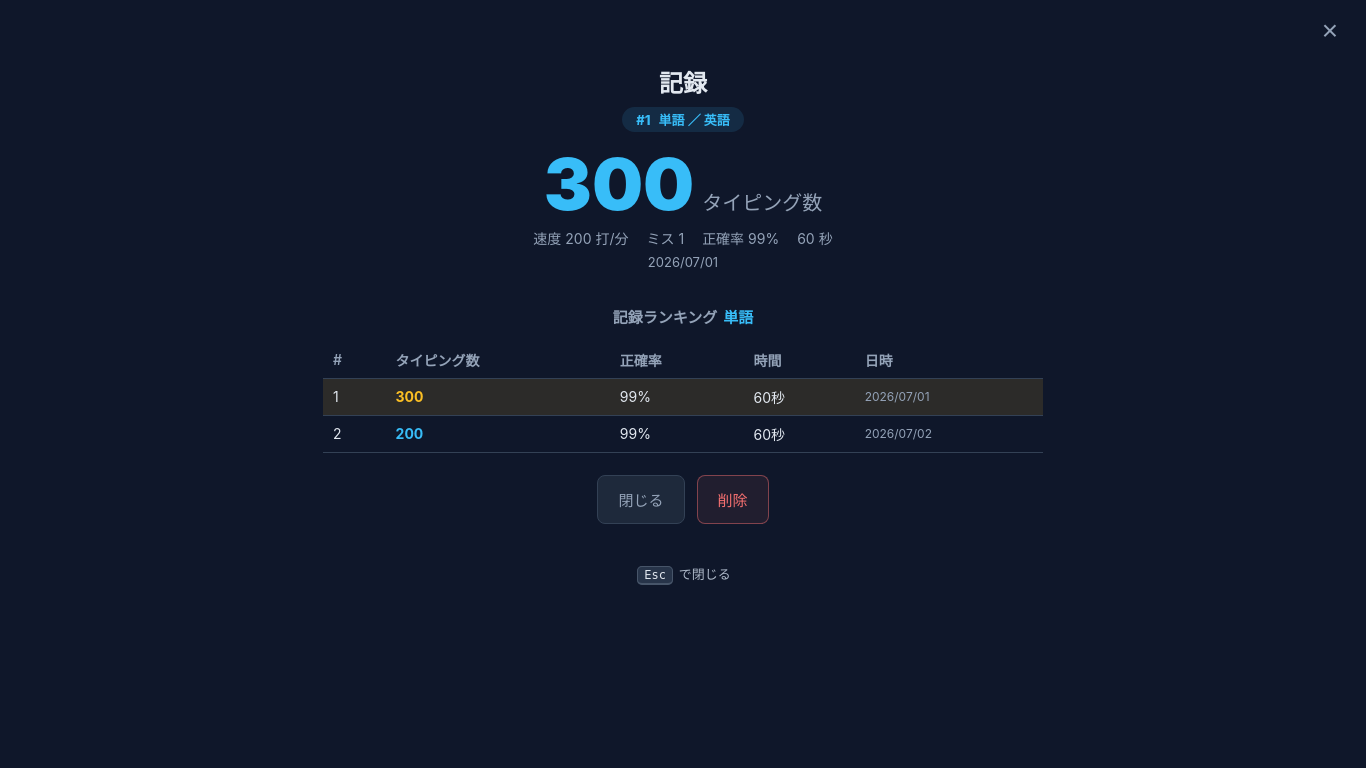
Test case: RecordDetail：削除の2段階確認 › 確認状態のまま別の記録に切り替えると確認は解除される（別物を消す事故を防ぐ）
Click the button with aria-label "この記録を削除する". click: click(732, 499)
box: [696,475,768,524]
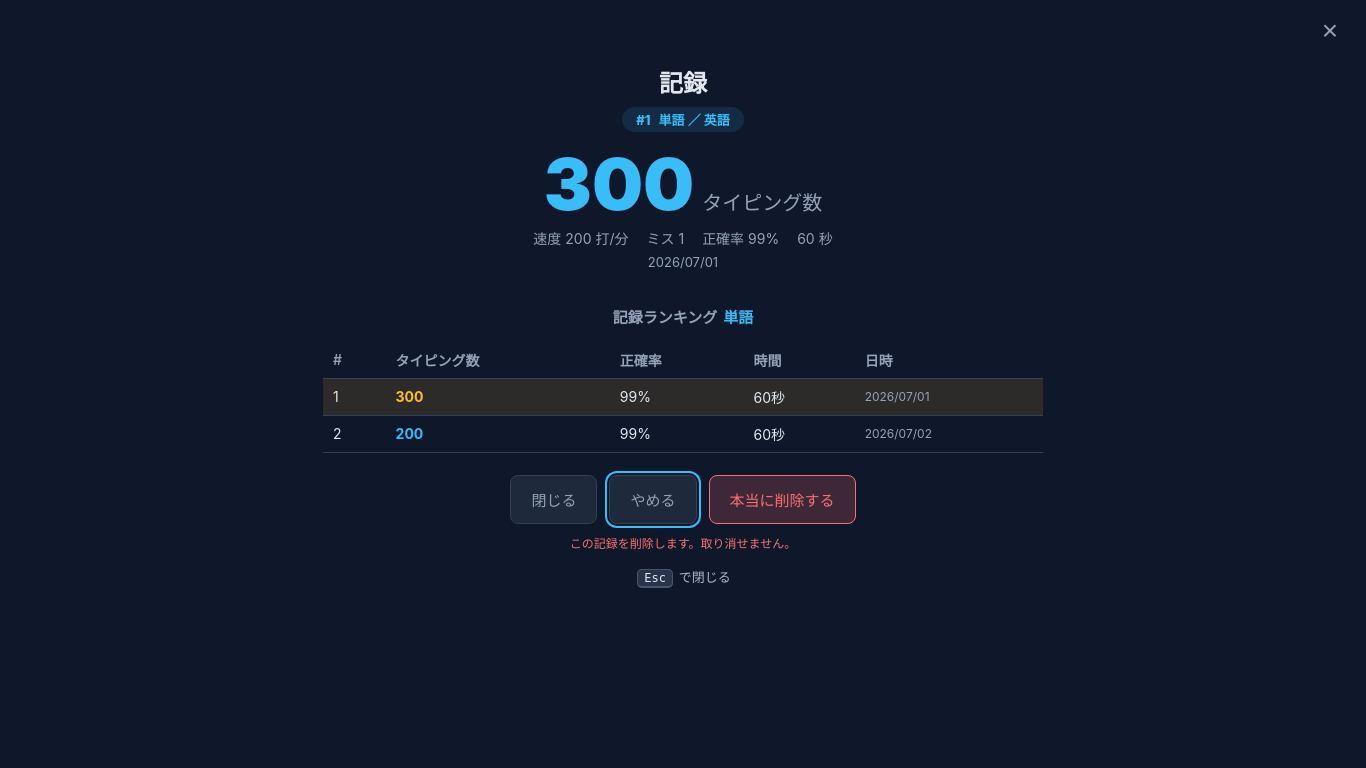
Now the button "本当に削除する" is shown, box [708,475,856,524]
Click the row "2 200 99% 60秒 2026/07/02". click: click(683, 434)
box: [323,415,1043,452]
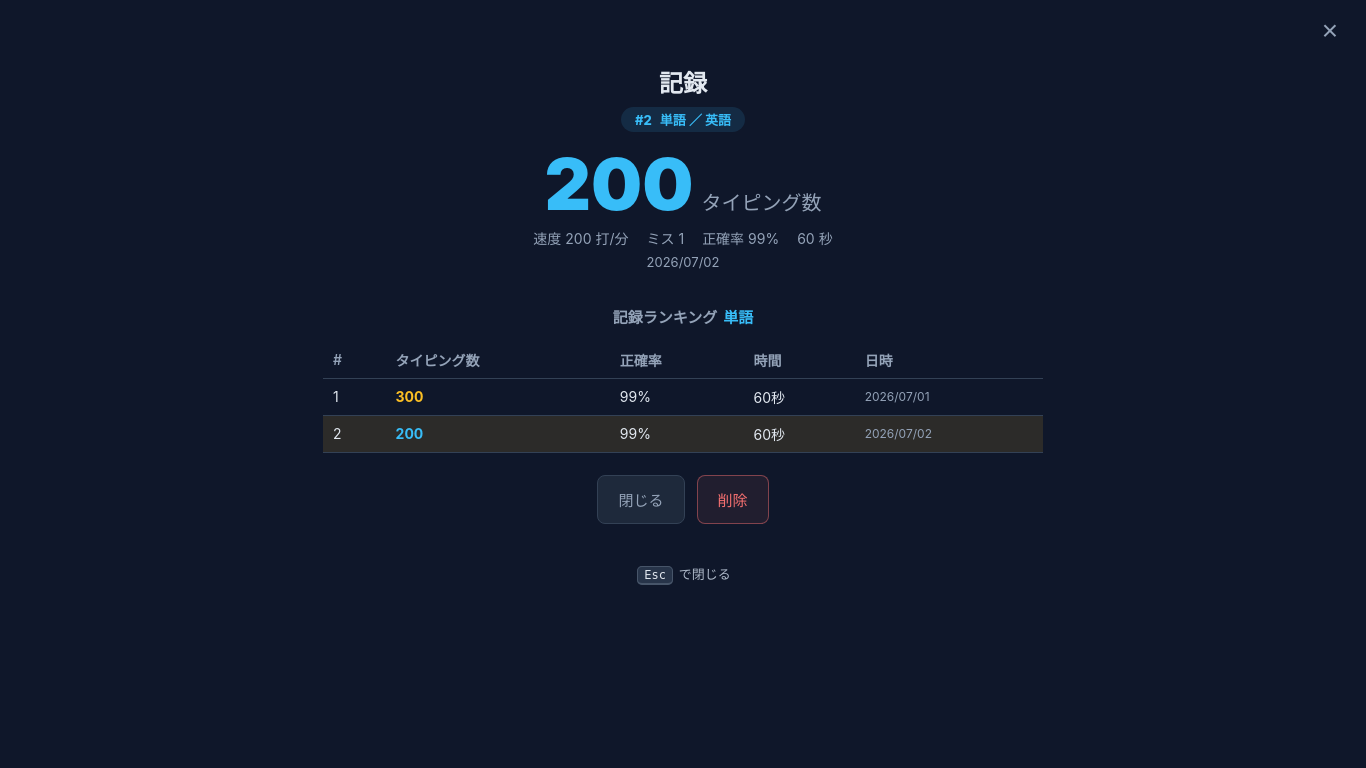
Now the button "本当に削除する" is gone
Now the button with aria-label "この記録を削除する" is shown, box [696,475,768,524]
